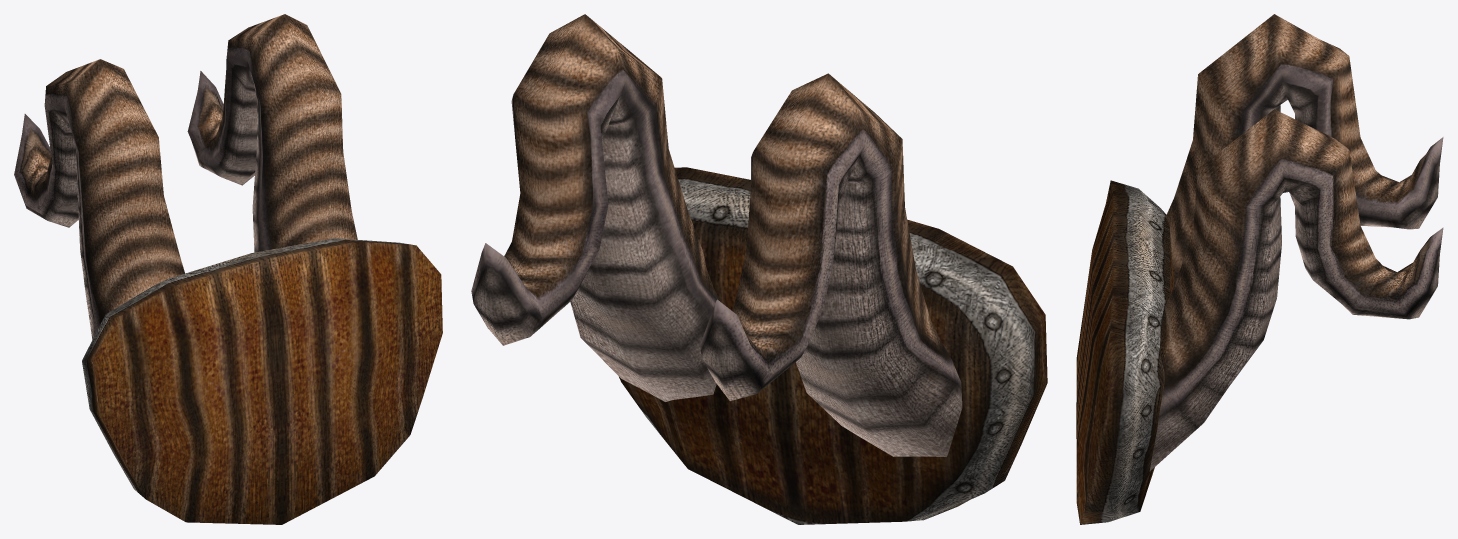
Rendered from BACK_CHIBI_RAM_HORNS.fbx.
The picture shows the model from 3 angles, left to right: view 1: azimuth 30°, elevation 25°; view 2: azimuth 150°, elevation 25°; view 3: azimuth 270°, elevation 25°; orthographic projection. The views are drawn at different scales.
Parts seen in each view (by area): view 1: BACK_CHIBI_RAM_HORNS; view 2: BACK_CHIBI_RAM_HORNS; view 3: BACK_CHIBI_RAM_HORNS.
Part boxes in pixels (x1,y1,x2,y2): BACK_CHIBI_RAM_HORNS: (14,14,442,524); BACK_CHIBI_RAM_HORNS: (471,14,1047,524); BACK_CHIBI_RAM_HORNS: (1076,14,1443,524).
Bounding box in the file's own units: 0.0348 × 0.0405 × 0.0302.
